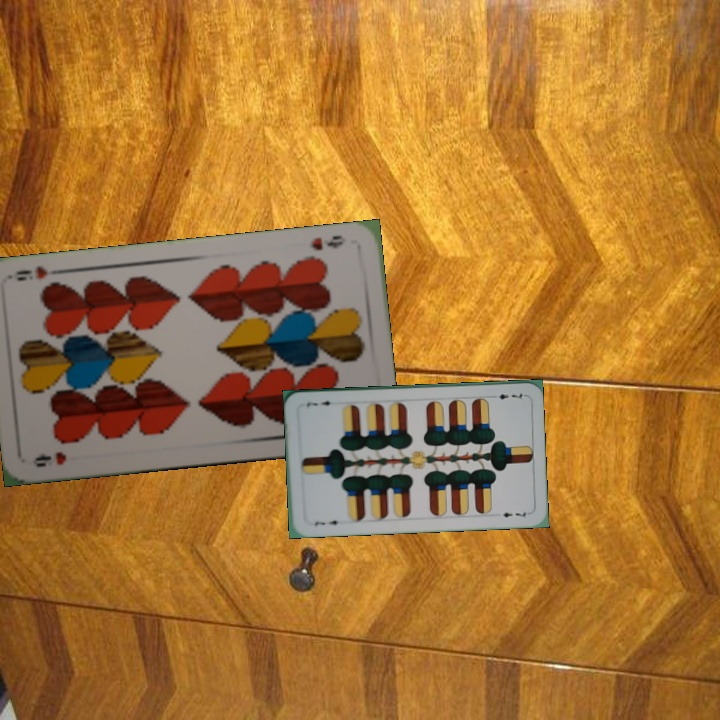E7: (486, 390, 527, 402), (310, 516, 344, 528)
H9: (29, 447, 69, 470), (307, 231, 348, 253)
